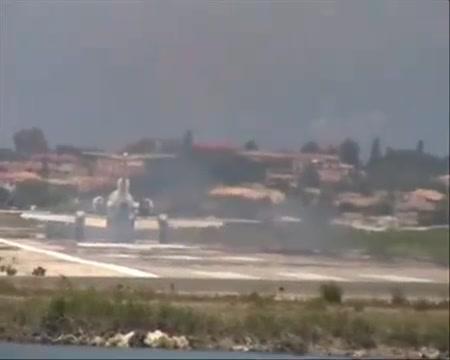aeroplane: (20, 150, 262, 243)
